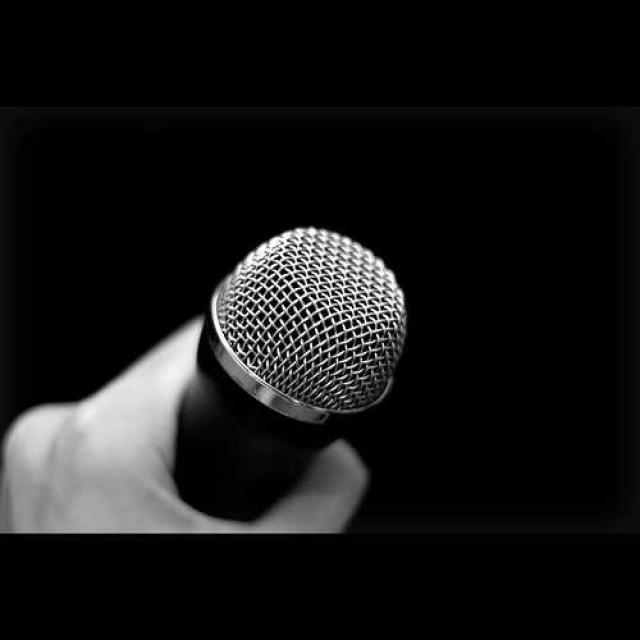microphone: (177, 225, 413, 518)
